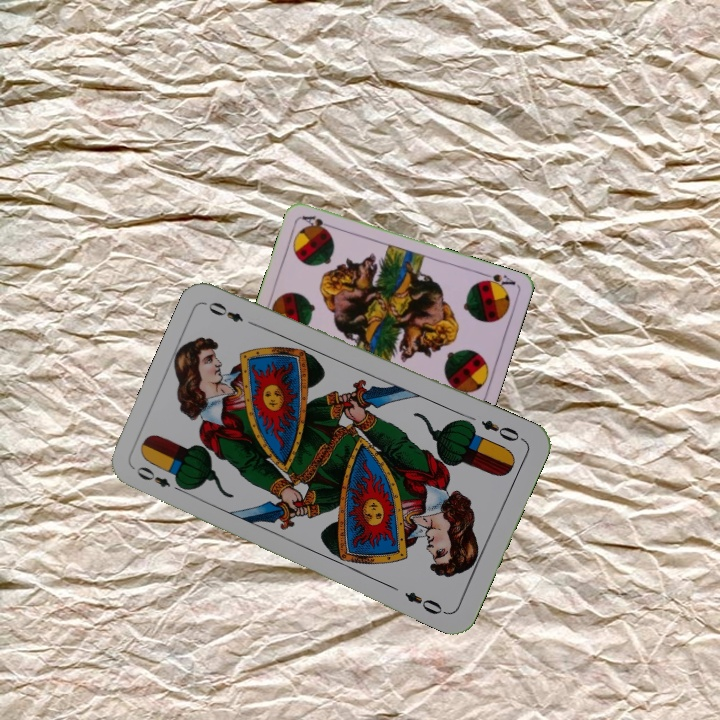EO: (132, 462, 188, 496), (477, 416, 527, 444)
SA: (478, 269, 518, 291)
